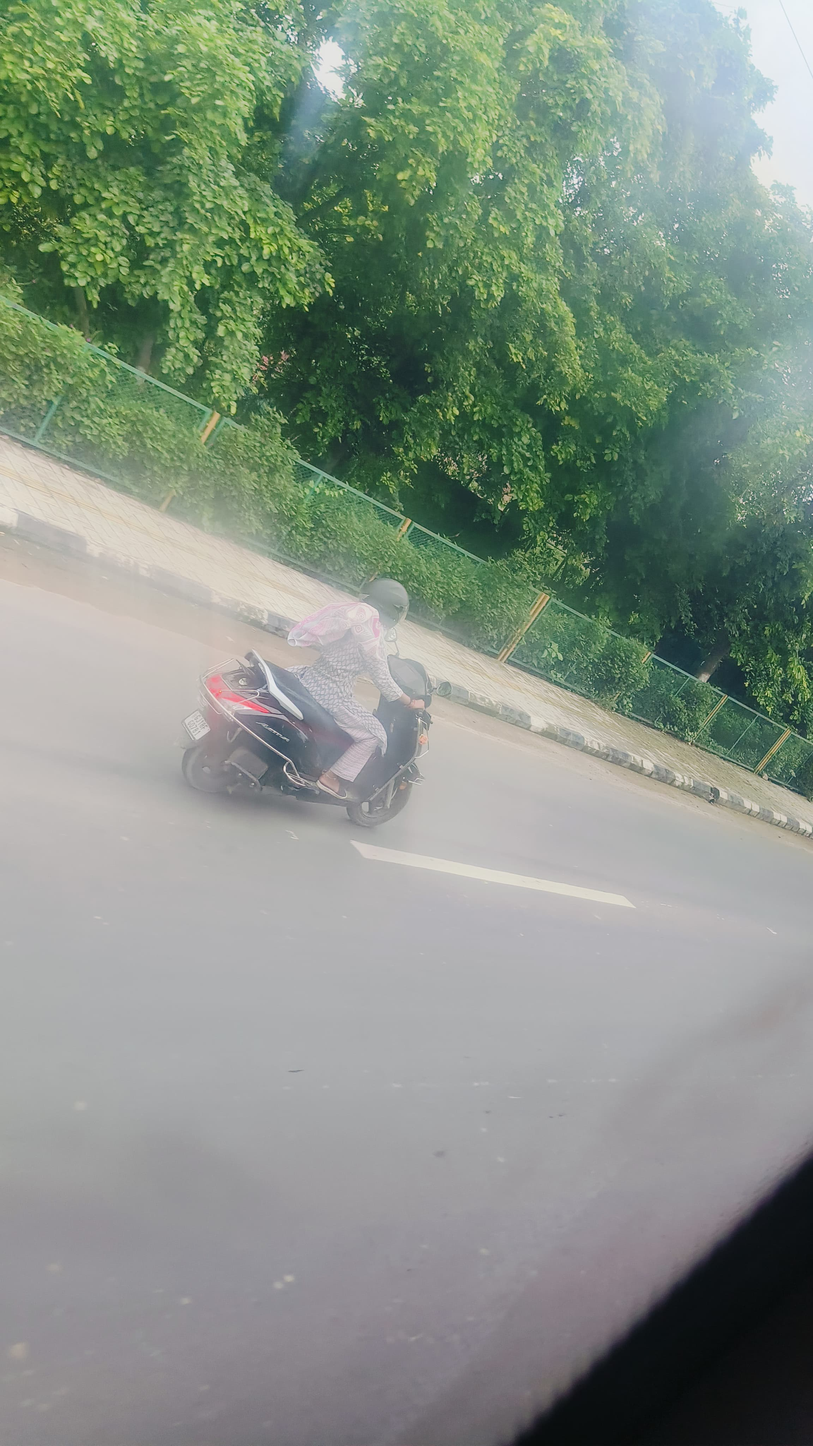BikeWithRider: (166, 567, 446, 843)
Helmet: (355, 569, 417, 632)
